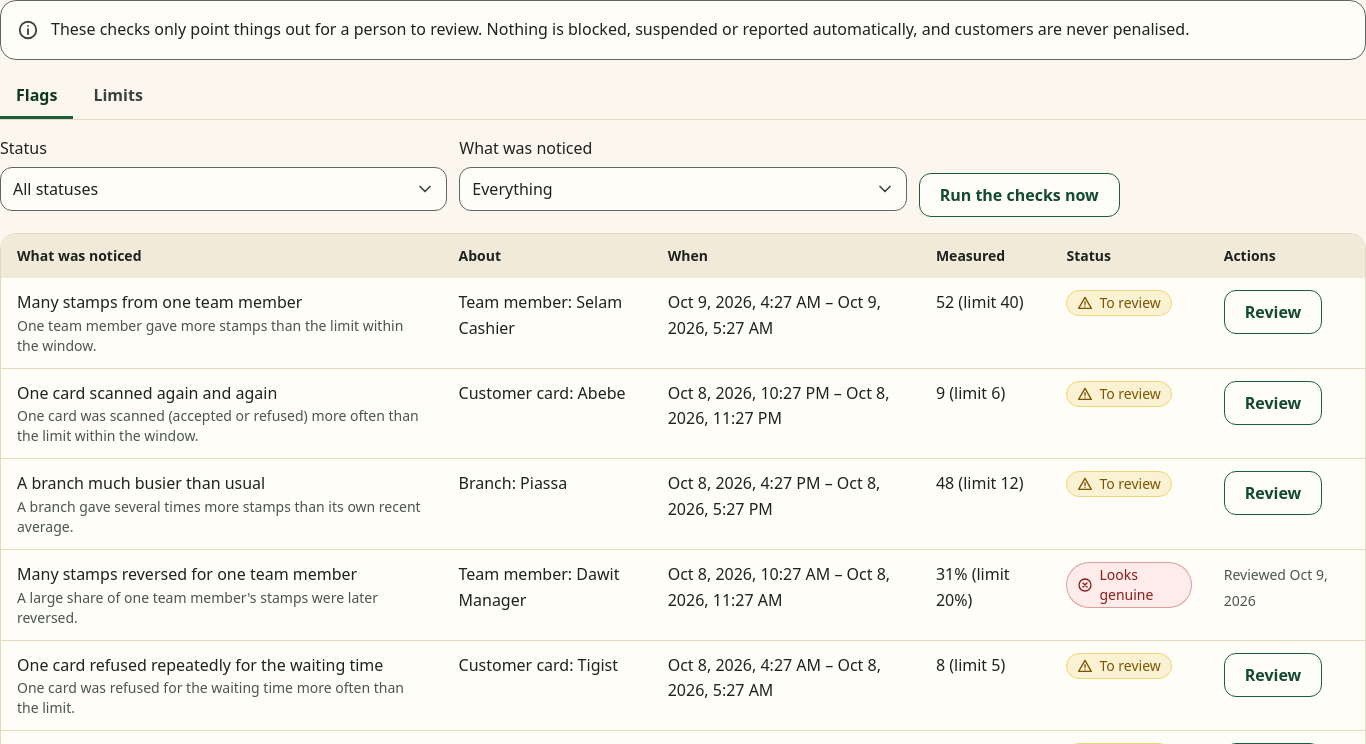
flags › runs the checks and shows the new flag
Click the button "Run the checks now".
click(1019, 195)  # box [919,173,1120,217]
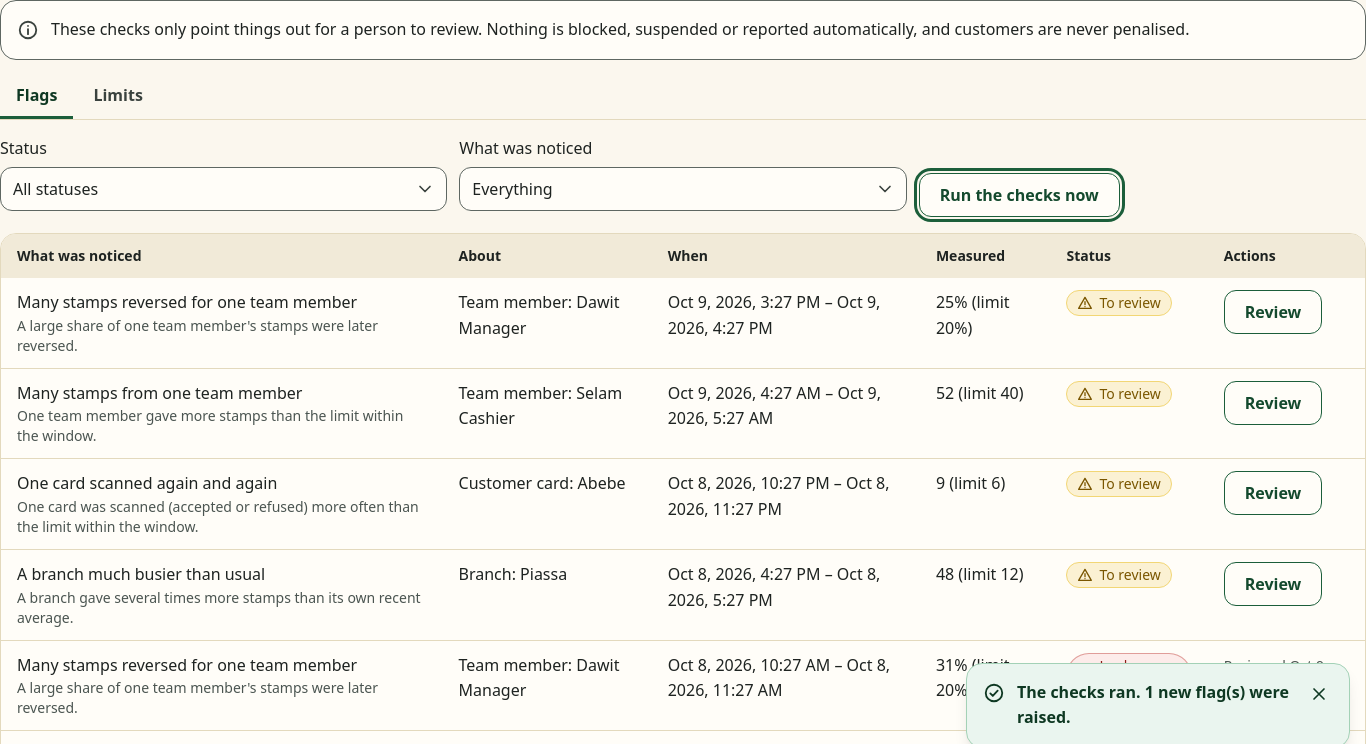
Expected: the text "The checks ran. 1 new flag(s) were raised." is shown, [1017,680,1293,731]
